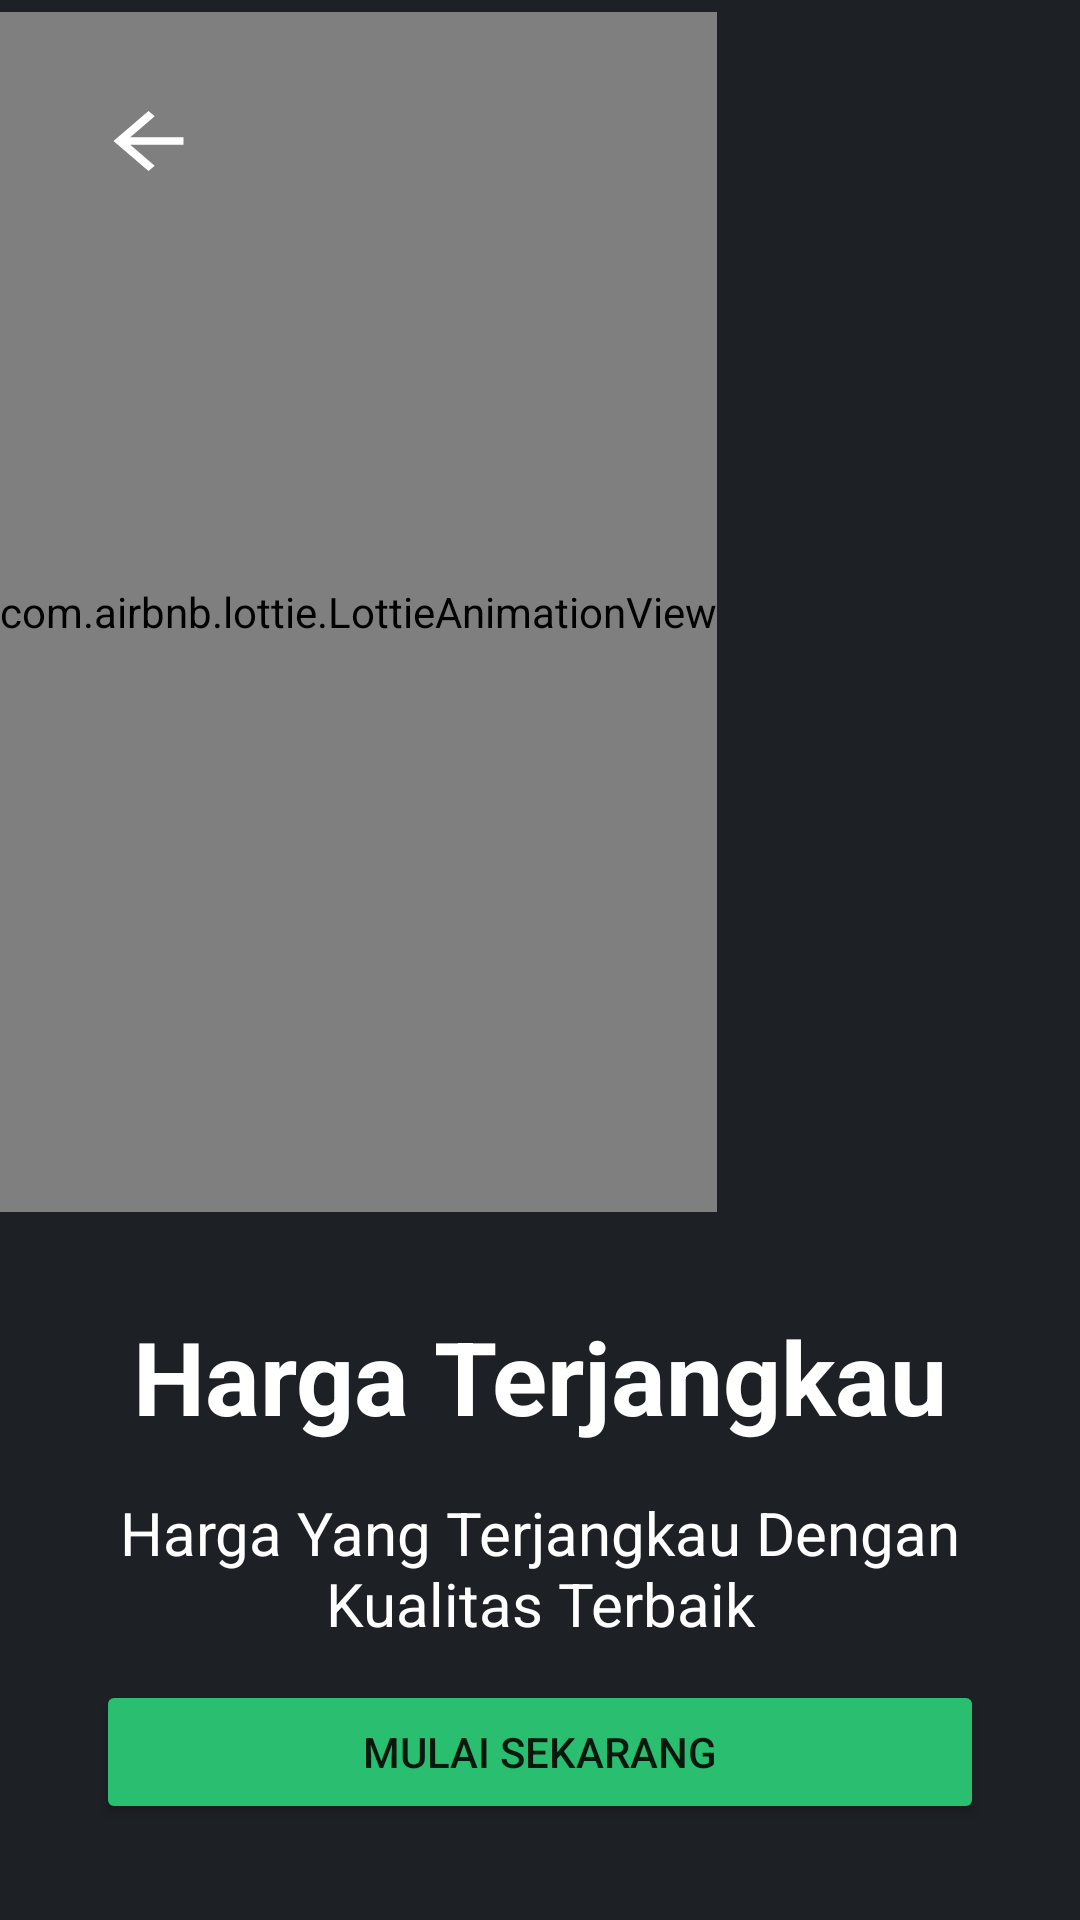

Locate icon controls on the screen. Image size 1080px x 1920px, boxes as (x1, y1, x2, y2).
back: (114, 111, 184, 171)
